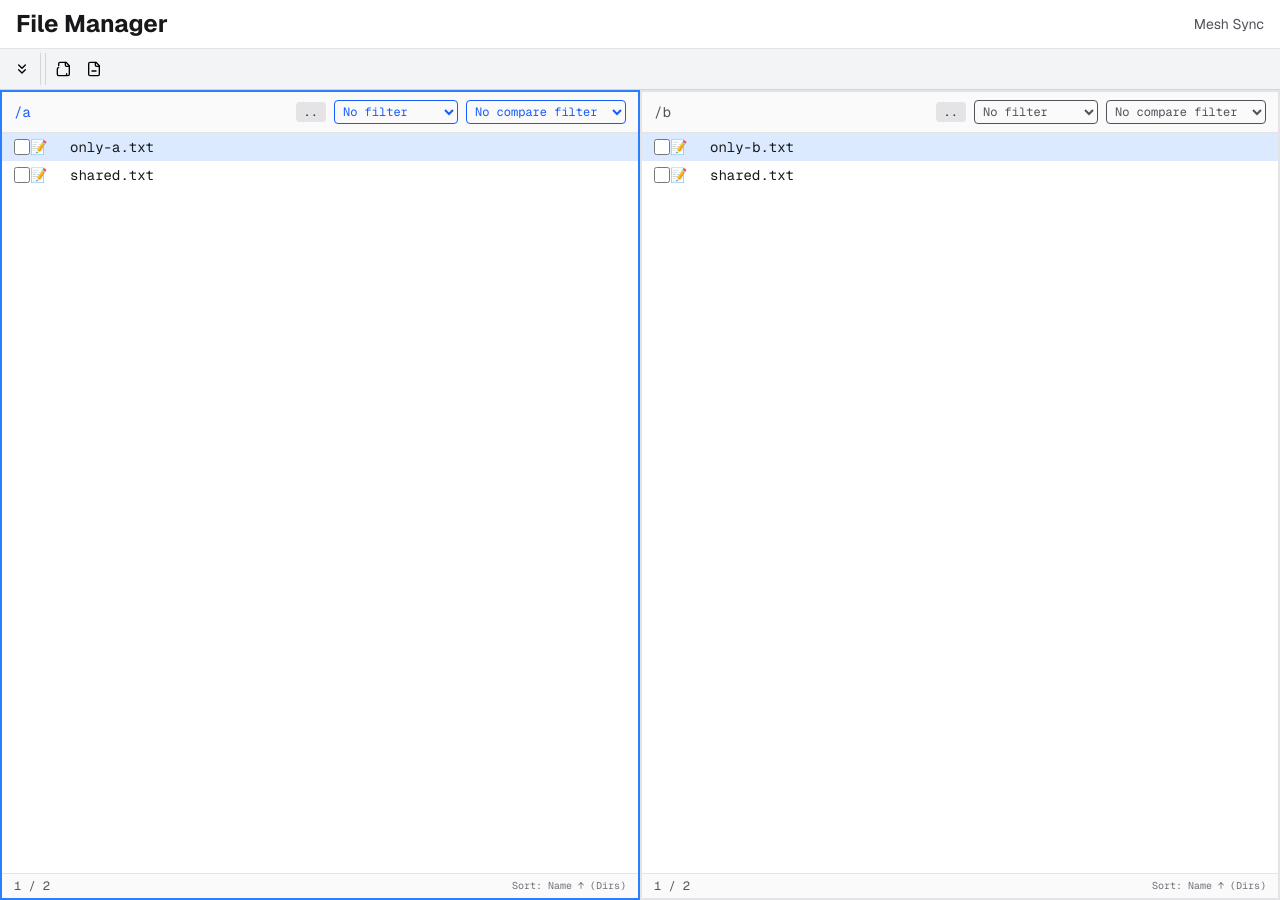
Scenario: [REQ-CROSS_PANE_VISIBILITY] WorkspaceView cross-pane visibility › exclude sharedAll hides shared rows in focused pane
Step 1. Click the button with test id "toolbar-view.compareFilter.sharedAll" → (64, 69), box [50,57,78,81]
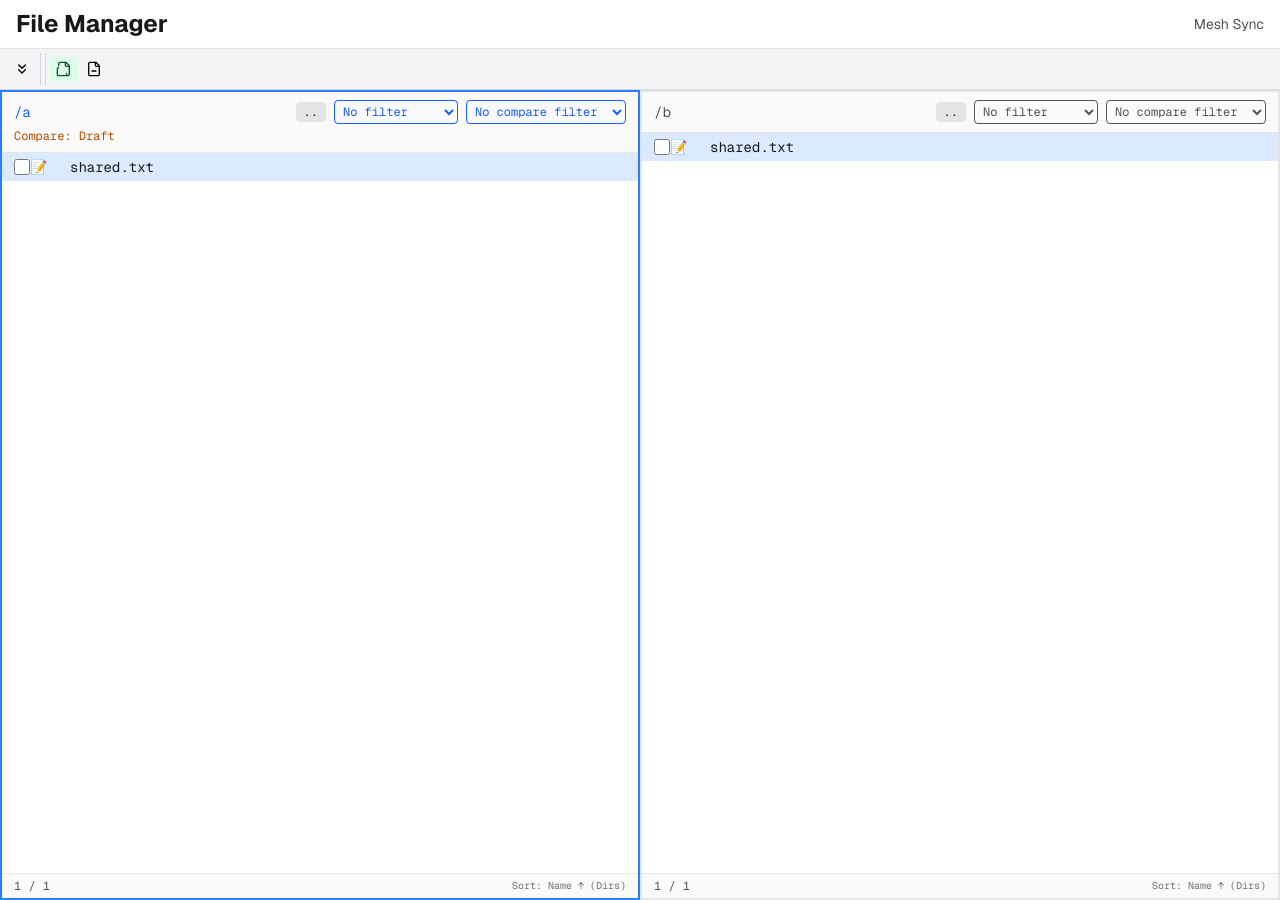
Step 2. Click the button with test id "toolbar-view.compareFilter.sharedAll" → (64, 69), box [50,57,78,81]
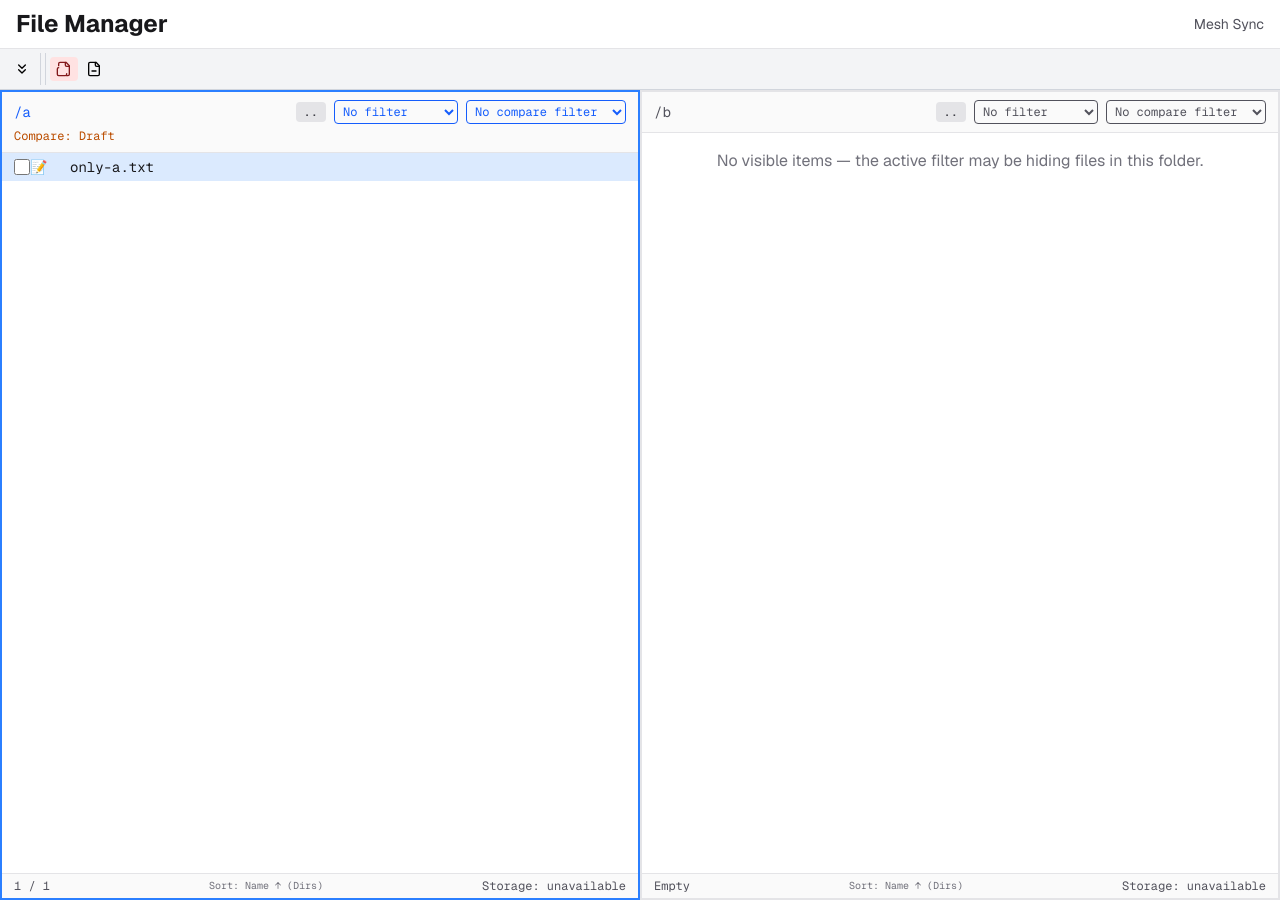
expect the text "shared.txt" is gone: met
expect the text "only-a.txt" is shown: met, box [70,157,154,177]
